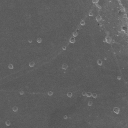corrosion: (104, 35, 114, 44), (111, 107, 121, 115), (68, 36, 77, 44), (95, 14, 103, 22), (61, 63, 70, 70), (28, 61, 36, 68), (96, 59, 104, 66), (5, 119, 12, 126), (61, 44, 68, 51), (46, 90, 54, 96), (7, 64, 14, 70), (36, 37, 43, 43), (66, 92, 73, 98), (86, 91, 92, 98), (121, 26, 128, 32), (81, 91, 87, 97), (87, 101, 93, 107), (116, 75, 122, 81), (79, 21, 86, 26), (12, 107, 18, 112), (28, 39, 33, 44)
